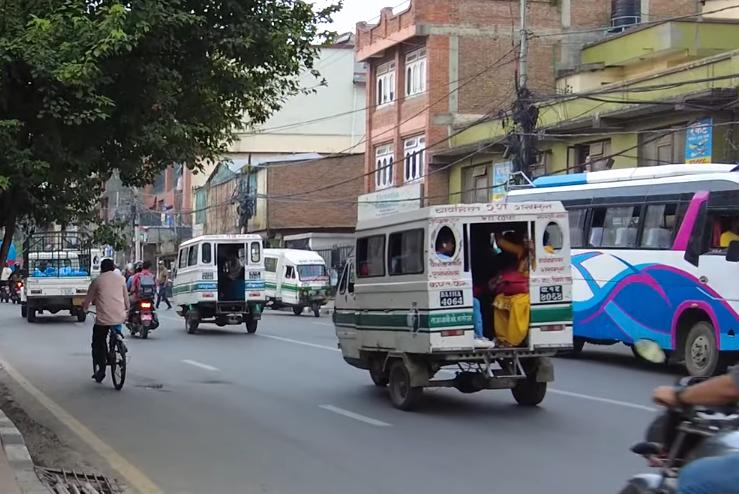bike: (121, 281, 159, 341)
bus: (509, 156, 739, 383)
tempo: (336, 199, 586, 409), (178, 230, 263, 336), (258, 246, 329, 318)
transport_vehicle: (19, 225, 94, 332)
